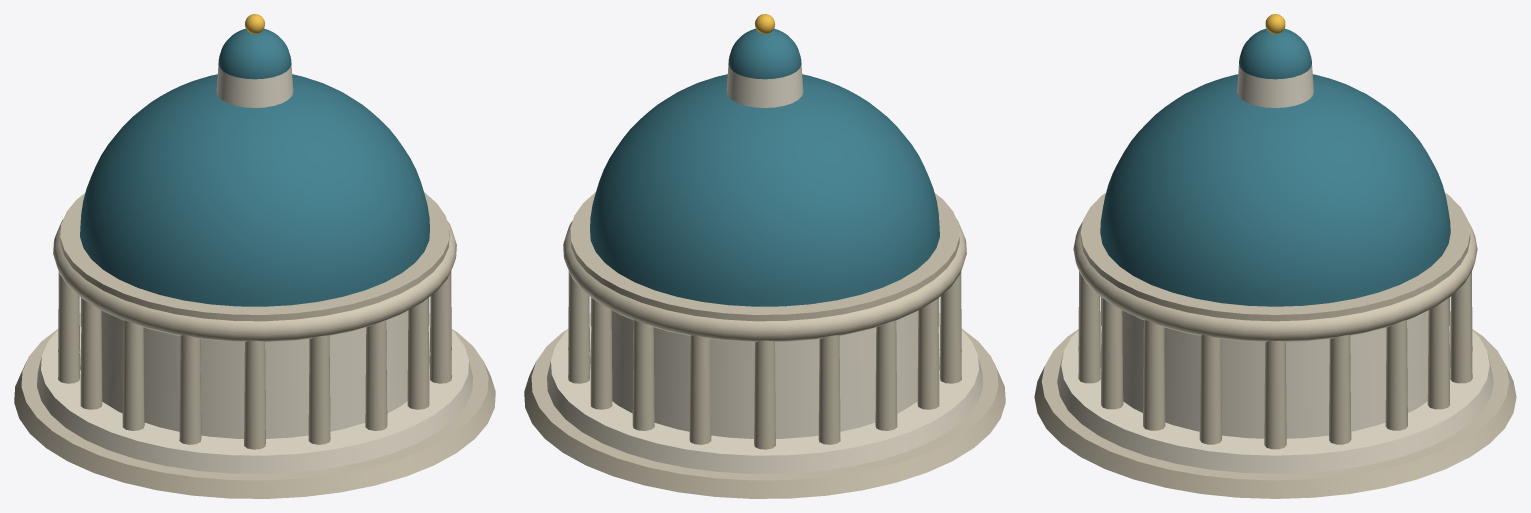
The model's file is dome-landmark.gltf.
3 views of the same model, side by side, from view 1: azimuth 30°, elevation 25°; view 2: azimuth 150°, elevation 25°; view 3: azimuth 270°, elevation 25° (orthographic).
Parts seen in each view (by area): view 1: dome-landmark; view 2: dome-landmark; view 3: dome-landmark.
Boxes of the visible parts, left/top/right/bottom form: dome-landmark: left=14, top=14, right=495, bottom=498; dome-landmark: left=524, top=14, right=1005, bottom=498; dome-landmark: left=1034, top=14, right=1516, bottom=498.
Size of the model in its own units: 19.8 by 17.32 by 19.8.
